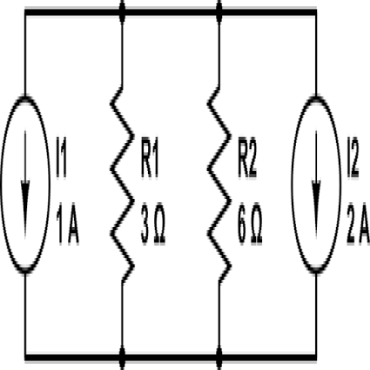Current Source: (289, 93, 370, 278), (1, 95, 81, 276)
Resistor: (108, 84, 167, 283), (206, 85, 264, 285)
